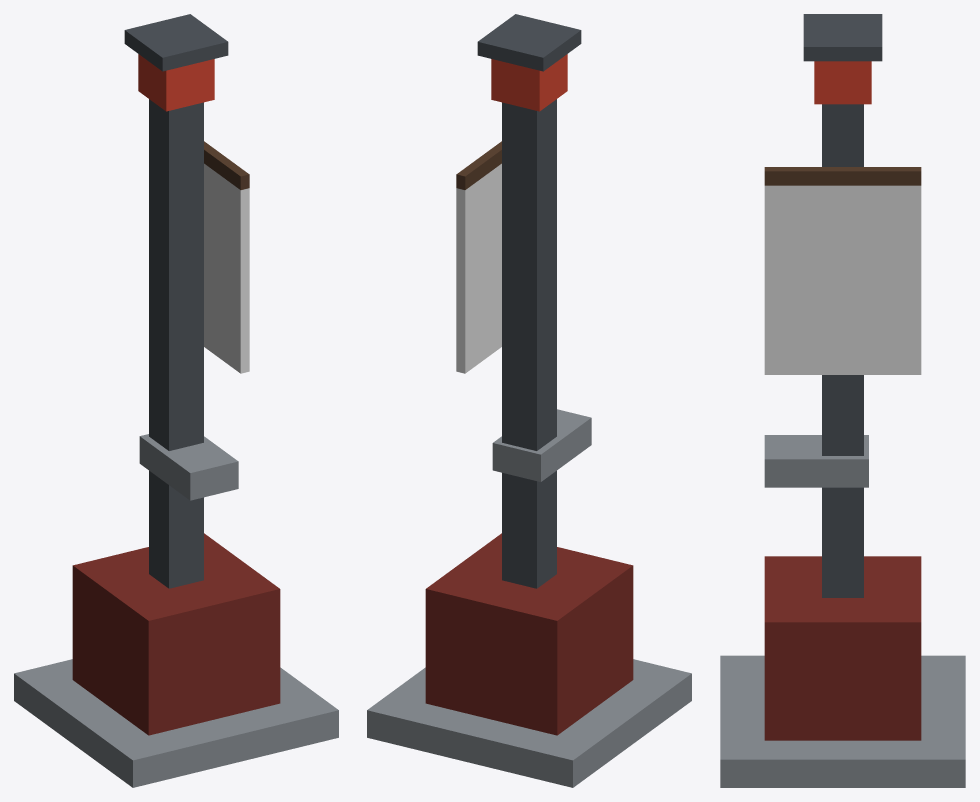
The picture shows the model from 3 angles, left to right: view 1: azimuth 30°, elevation 25°; view 2: azimuth 150°, elevation 25°; view 3: azimuth 270°, elevation 25°; orthographic projection. The views are drawn at different scales.
Parts seen in each view (by area): view 1: garde_building_outpost; view 2: garde_building_outpost; view 3: garde_building_outpost.
Part boxes in pixels (x1,y1,x2,y2): garde_building_outpost: [14, 14, 338, 787]; garde_building_outpost: [367, 14, 691, 787]; garde_building_outpost: [720, 14, 965, 787].
Size of the model in its own units: 0.94 by 2.98 by 0.94.
